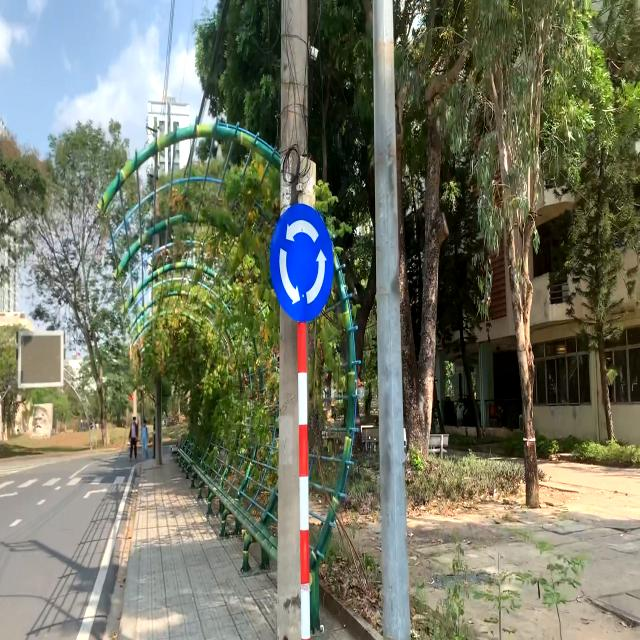R.303: (269, 202, 334, 324)
